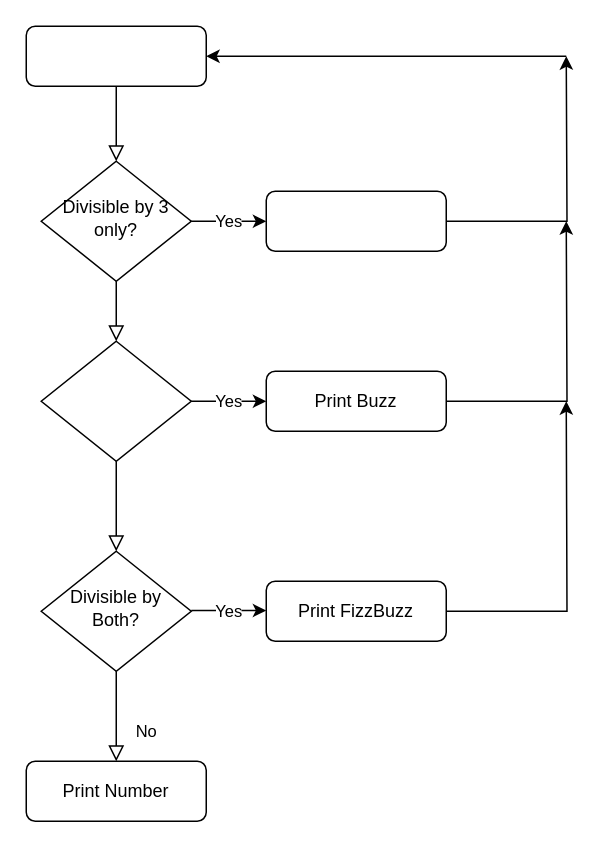
The diagram is 606 pixels wide and 848 high, and some of its shapes have lost their labels. Each missing label, with the centre of its shape:
"Divisible by 5 only?" goes at pixel 115 400.
"Number" goes at pixel 115 55.
"Print Fizz" goes at pixel 355 220.
